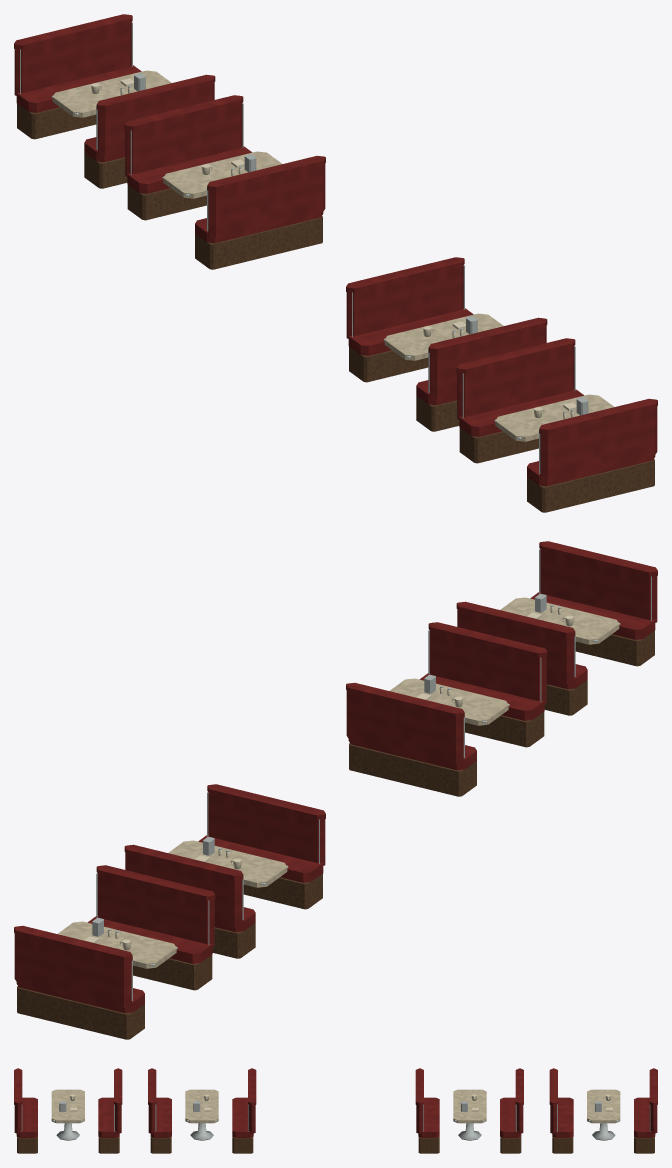
Rendered from SM_Mesa_Booths_LOD2.fbx.
3 views of the same model, one above another, from view 1: azimuth 30°, elevation 25°; view 2: azimuth 150°, elevation 25°; view 3: azimuth 270°, elevation 25° (orthographic). The views are drawn at different scales.
Parts seen in each view (by area): view 1: SM_Mesa_Booths_LOD2; view 2: SM_Mesa_Booths_LOD2; view 3: SM_Mesa_Booths_LOD2.
Part boxes in pixels (left/top/right/bottom): SM_Mesa_Booths_LOD2: left=14, top=14, right=657, bottom=512; SM_Mesa_Booths_LOD2: left=14, top=541, right=657, bottom=1039; SM_Mesa_Booths_LOD2: left=14, top=1068, right=657, bottom=1153.
Size of the model in its own units: 1.87 by 14.67 by 1.28.
